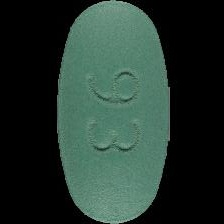0179-0203: (0, 0, 224, 224)
